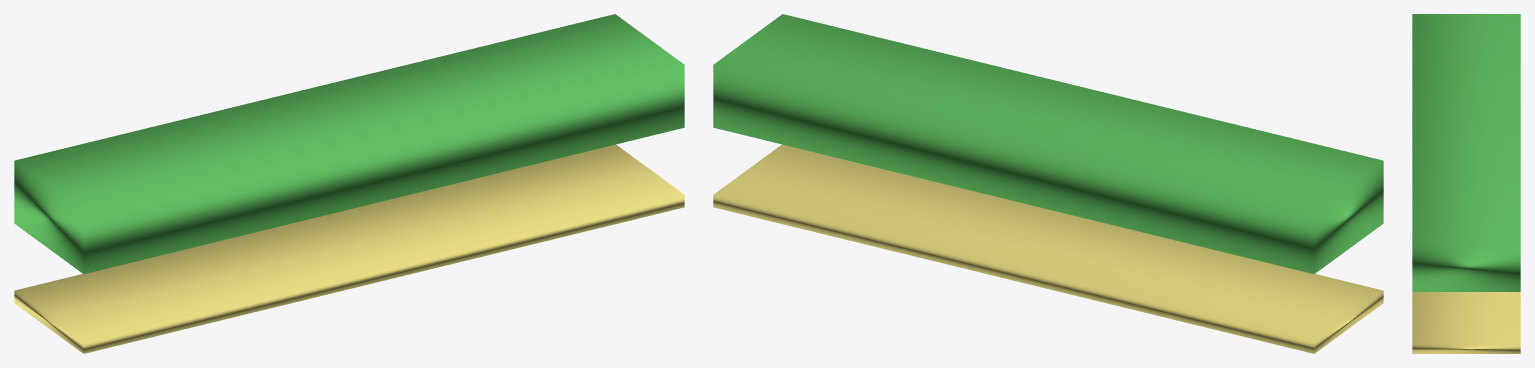
The model's file is ram.glb.
3 renders of one model, left to right at view 1: azimuth 30°, elevation 25°; view 2: azimuth 150°, elevation 25°; view 3: azimuth 270°, elevation 25°, orthographic. The views are drawn at different scales.
Visible parts, largest first — view 1: Cube; view 2: Cube; view 3: Cube.
Part boxes in pixels (bbox=[...]): Cube: bbox=[14, 14, 684, 353]; Cube: bbox=[713, 14, 1383, 353]; Cube: bbox=[1412, 14, 1520, 353].
Size of the model in its own units: 0.12 by 0.0272 by 0.024.
